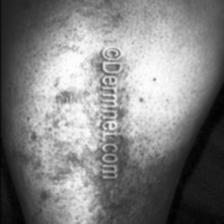Unclassified: (132, 160, 174, 201), (45, 78, 86, 110)
